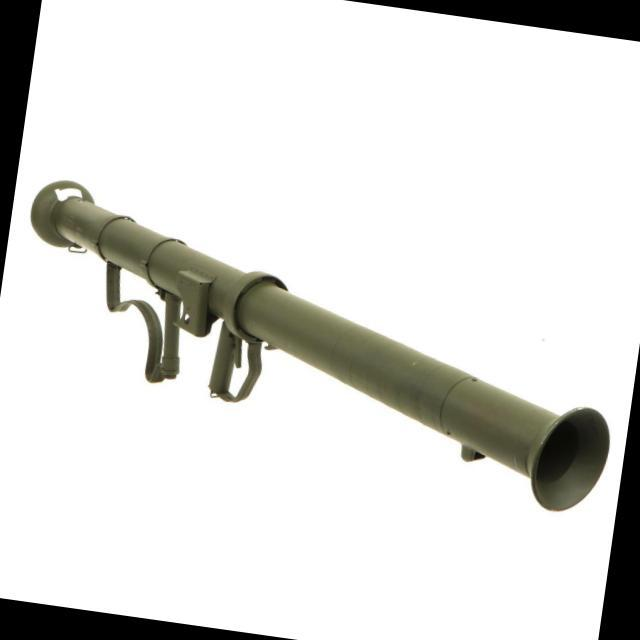rocket: (5, 173, 633, 514)
